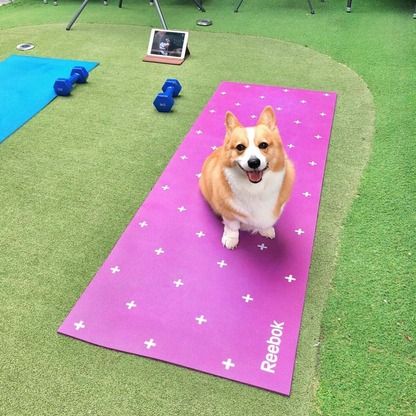Corgi: (195, 101, 300, 259)
